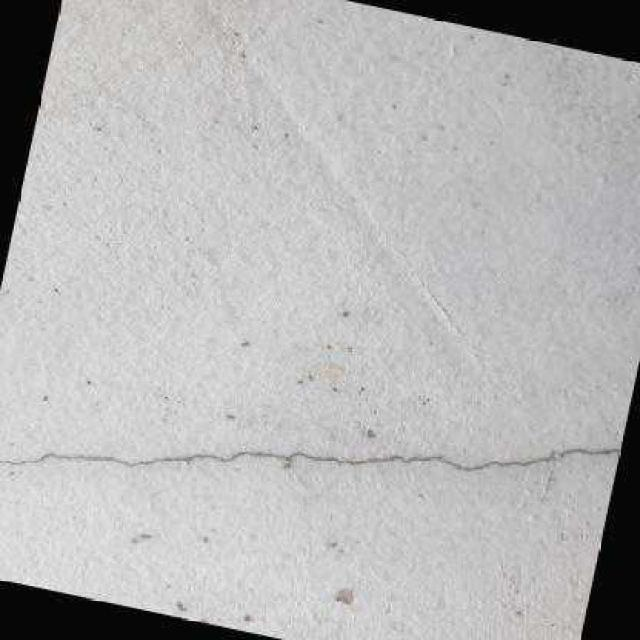D00: (0, 446, 556, 470), (557, 445, 620, 456)
